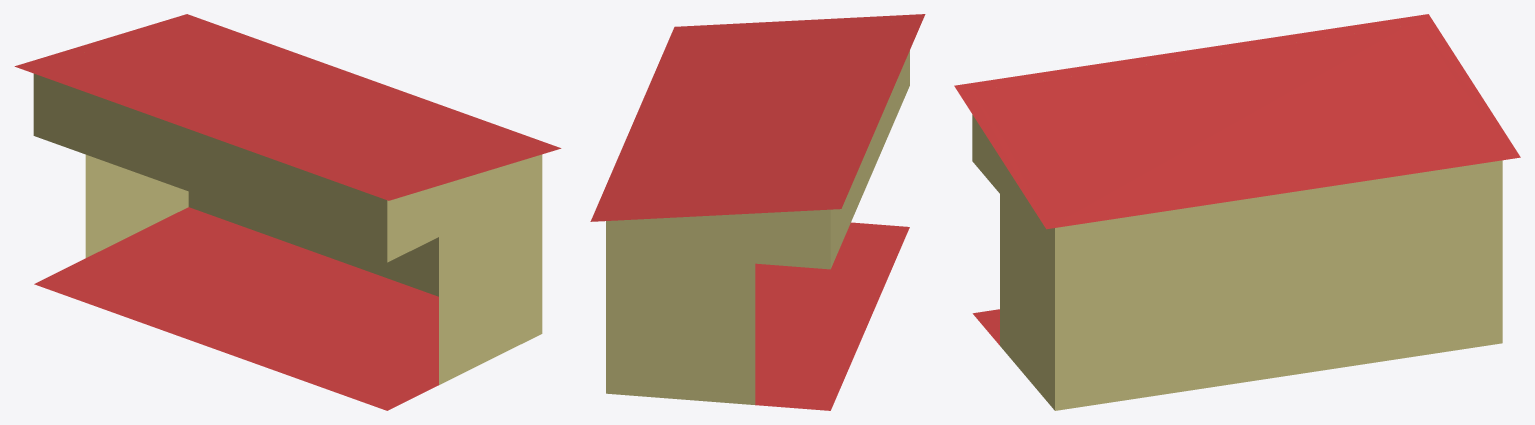
The picture shows the model from 3 angles, left to right: view 1: azimuth 30°, elevation 25°; view 2: azimuth 150°, elevation 25°; view 3: azimuth 270°, elevation 25°; orthographic projection. The views are drawn at different scales.
Bounding box in the file's own units: 22.36 × 29.63 × 12.92.
